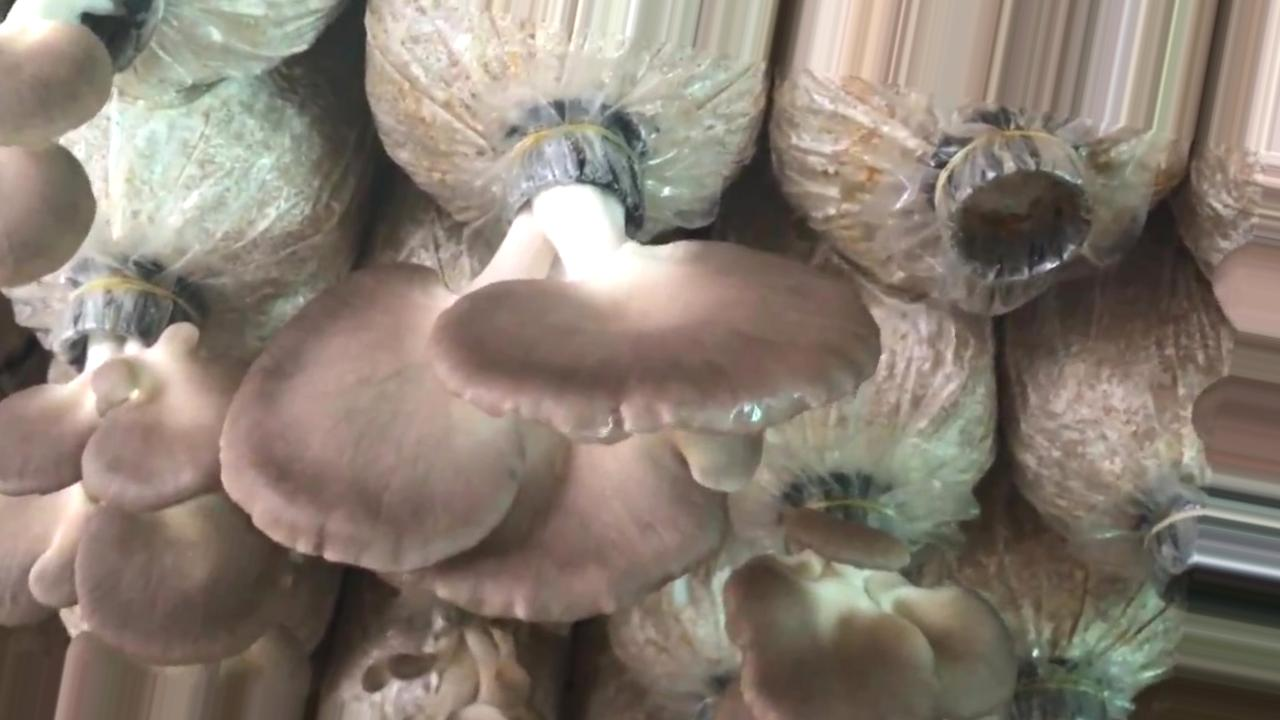nam: (220, 120, 881, 624), (1, 280, 309, 664), (715, 501, 1015, 720), (1, 1, 156, 286), (1195, 378, 1279, 483)
